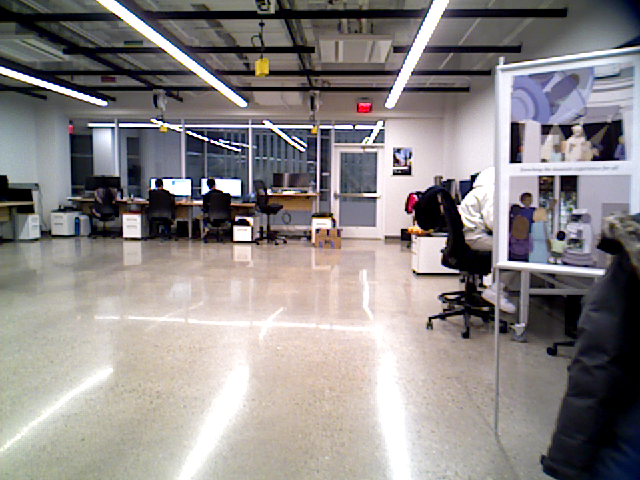painting3: (390, 148, 413, 177)
